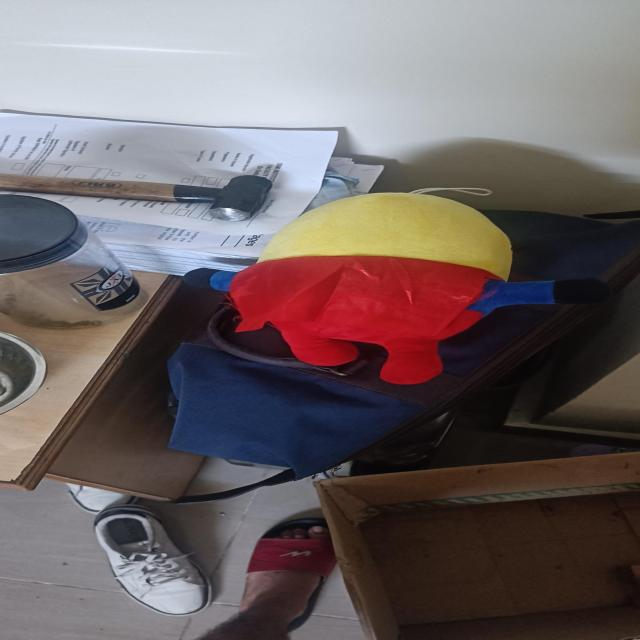minion: (231, 178, 573, 386)
